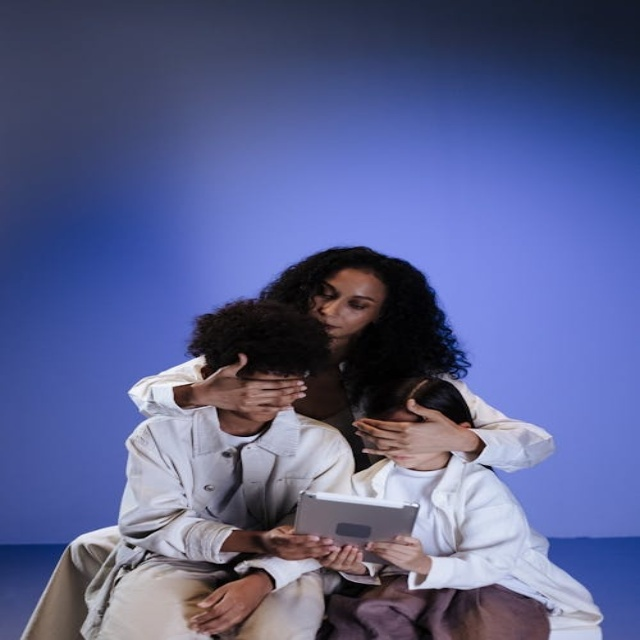Sin_gafas: (316, 281, 375, 315)
Sin_guantes: (350, 399, 476, 467), (188, 357, 310, 418), (186, 571, 275, 638), (257, 524, 339, 562), (360, 536, 427, 575)
Sin_mascara: (324, 321, 347, 339)
